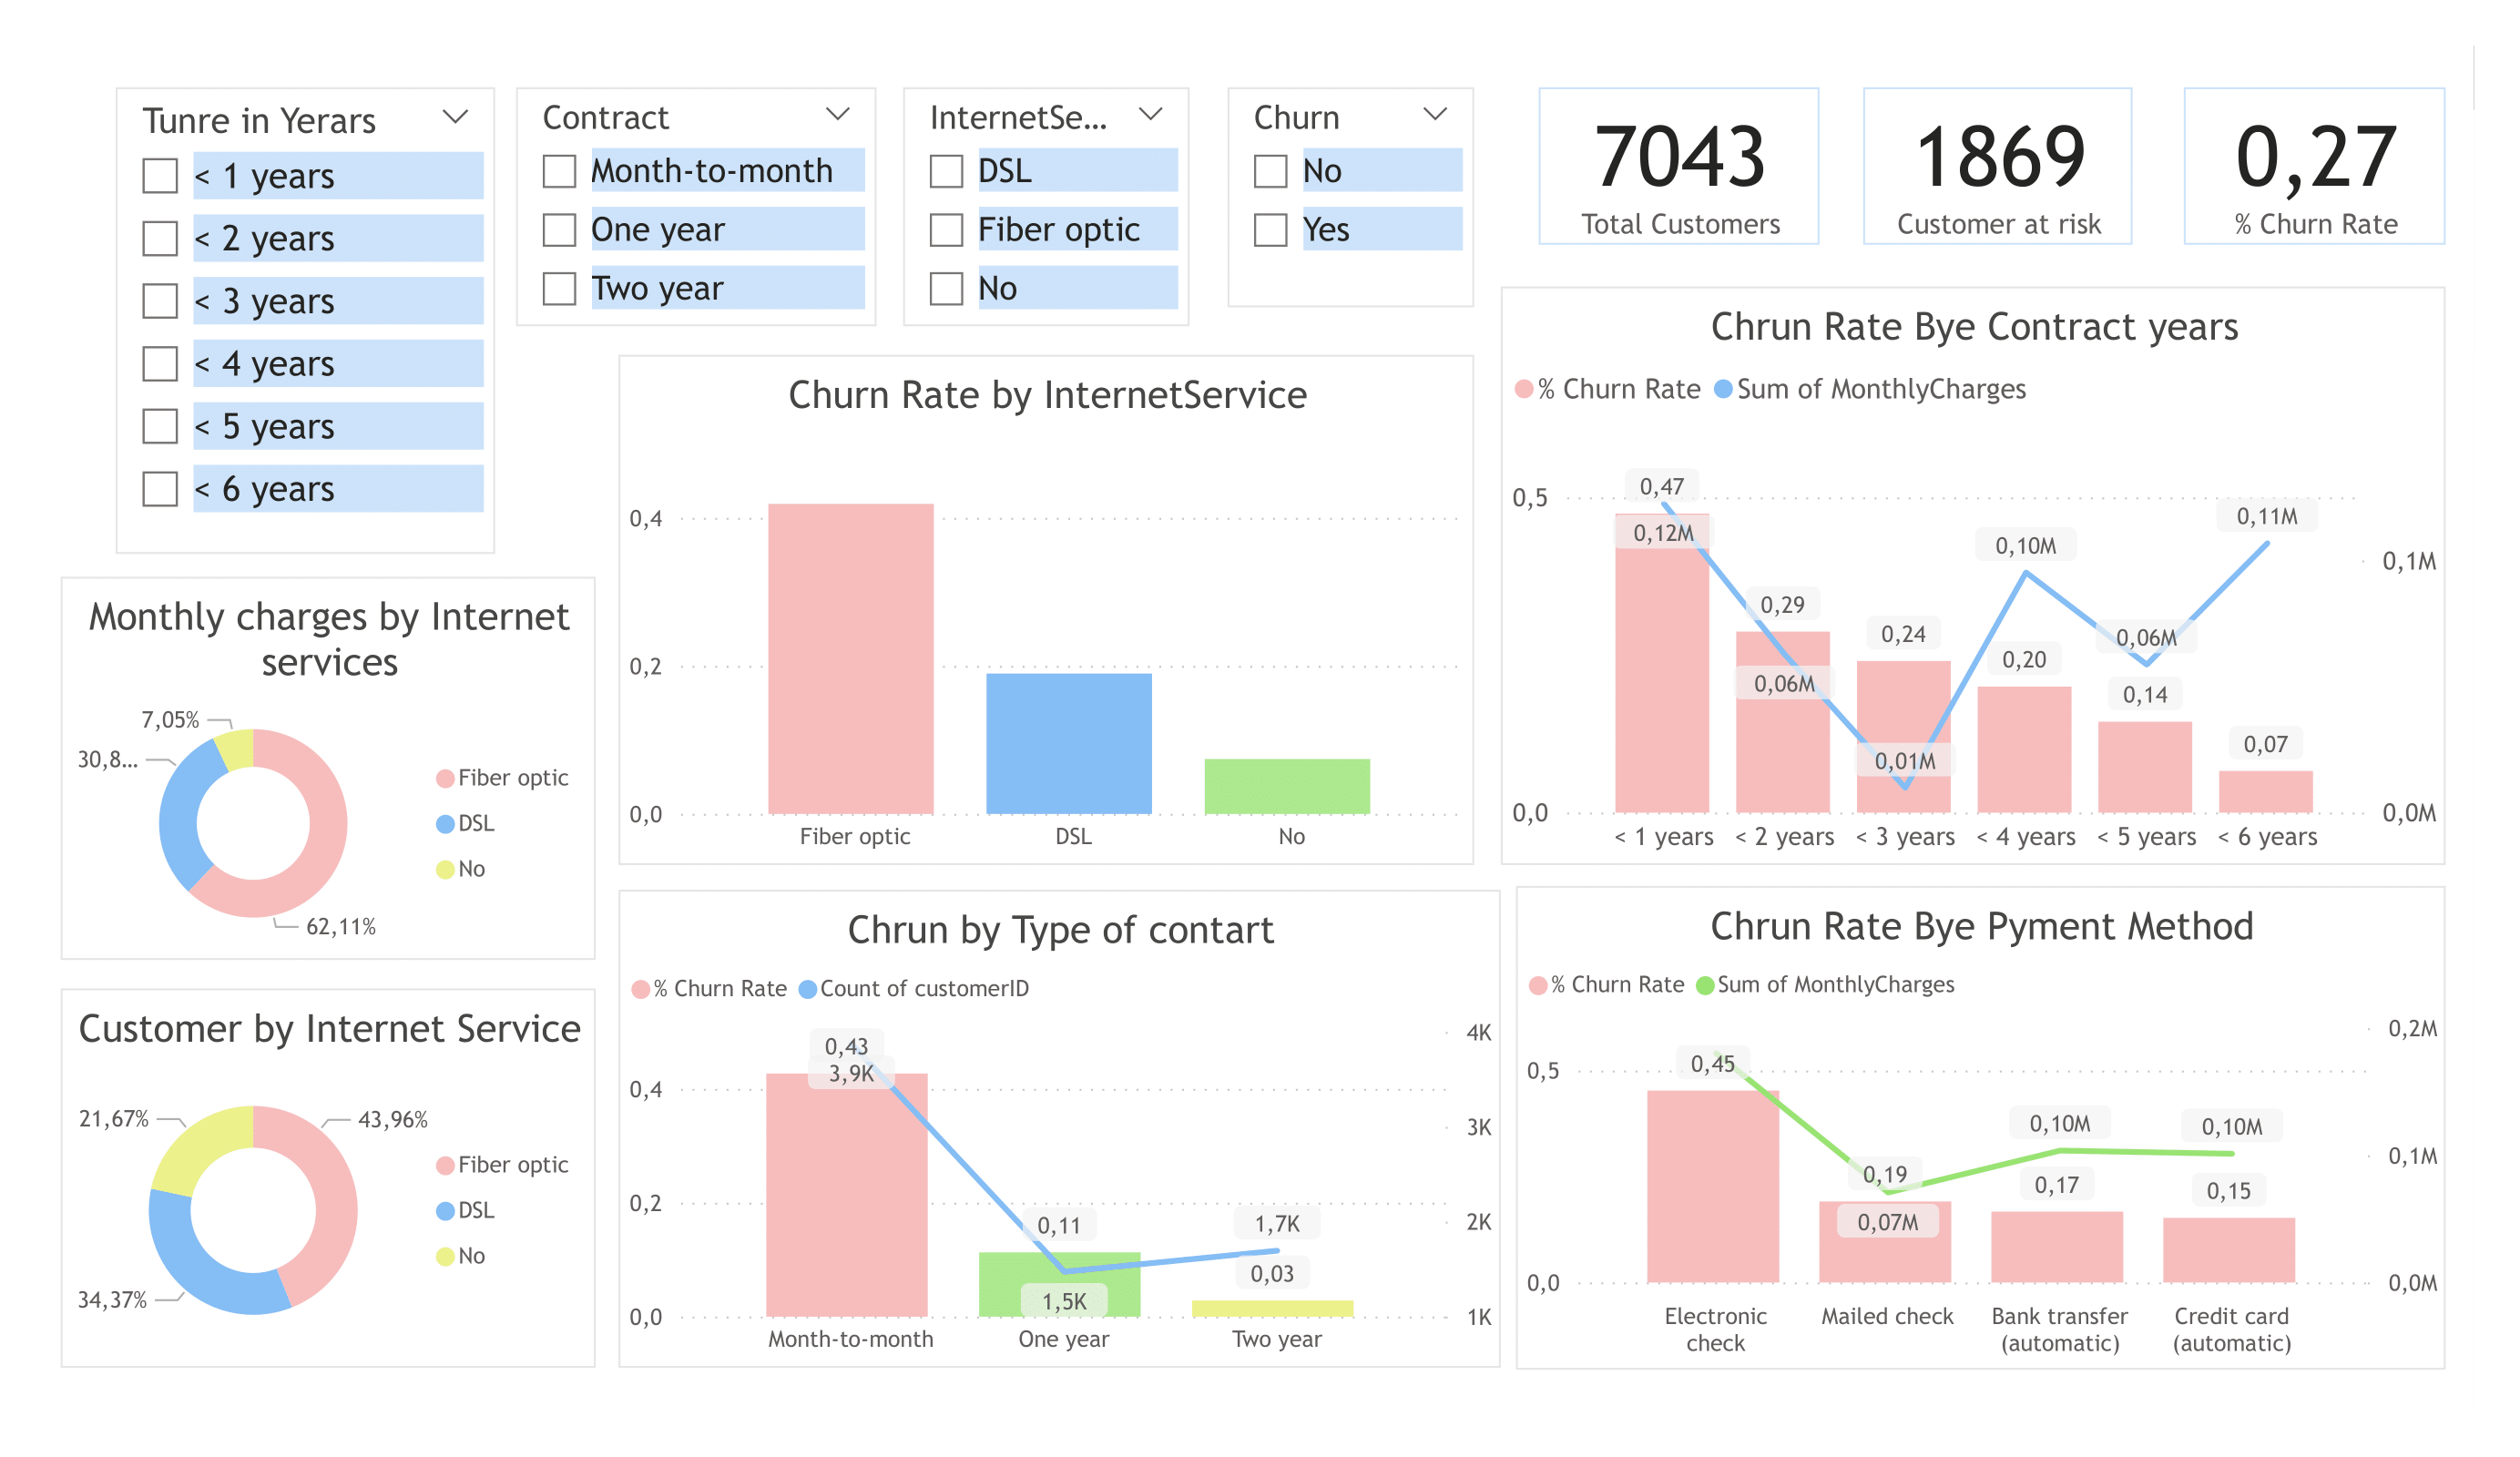

What the dashboard file says about the page in this screenshot:
{"tool":"powerbi","page":{"name":"Page 2","canvas":[1280,720],"ordinal":1},"visuals":[{"type":"card","fields":{"Values":["CountNonNull(Churn.customerID)"]},"box":[786.7,21.7,148.3,83.3],"z":0},{"type":"card","fields":{"Values":["CountNonNull(01 Churn-Dataset.customerID)"]},"box":[958.3,21.7,141.7,83.3],"z":1000},{"type":"card","fields":{"Values":["Churn.% Churn Rate"]},"box":[1126.7,21.7,138.3,83.3],"z":2000},{"type":"columnChart","title":"Churn Rate by InternetService","fields":{"Category":["Churn.InternetService"],"Y":["Churn.% Churn Rate"]},"box":[301.7,163.3,451.7,268.3],"z":3000},{"type":"donutChart","title":"Monthly charges by Internet services","fields":{"Category":["Churn.InternetService"],"Y":["Sum(Churn.MonthlyCharges)"]},"box":[8.3,280,281.7,201.7],"z":4000},{"type":"donutChart","title":"Customer by Internet Service","fields":{"Category":["Churn.InternetService"],"Y":["CountNonNull(Churn.customerID)"]},"box":[8.3,496.7,281.7,200],"z":5000},{"type":"lineStackedColumnComboChart","title":"Chrun Rate Bye Pyment Method","fields":{"Y":["Churn.% Churn Rate"],"Category":["Churn.PaymentMethod"],"Y2":["Sum(Churn.MonthlyCharges)"]},"box":[775,443.3,490,255],"z":6000},{"type":"lineStackedColumnComboChart","title":"Chrun by Type of contart","fields":{"Y":["Churn.% Churn Rate"],"Category":["Churn.Contract"],"Y2":["CountNonNull(Churn.customerID)"]},"box":[301.7,445,465,251.7],"z":7000},{"type":"lineStackedColumnComboChart","title":"Chrun Rate Bye Contract years","fields":{"Y":["Churn.% Churn Rate"],"Y2":["Sum(Churn.MonthlyCharges)"],"Category":["Churn.Tunre in Yerars"]},"box":[766.7,126.7,498.3,305],"z":8000},{"type":"slicer","fields":{"Values":["Churn.InternetService"]},"box":[451.7,21.7,151.7,126.7],"z":9000},{"type":"slicer","fields":{"Values":["Churn.Churn"]},"box":[623.3,21.7,130,116.7],"z":10000},{"type":"slicer","fields":{"Values":["Churn.Tunre in Yerars"]},"box":[36.7,21.7,200,246.7],"z":11000},{"type":"slicer","fields":{"Values":["Churn.Contract"]},"box":[248.3,21.7,190,126.7],"z":12000}]}

Visuals, with their boxes in screenshot pixels (x1, y1, x2, y2):
card - CountNonNull(Churn.customerID): (1538,87,1820,245)
card - CountNonNull(01 Churn-Dataset.customerID): (1864,87,2133,245)
card - Churn.% Churn Rate: (2184,87,2446,245)
"Churn Rate by InternetService" columnChart: (618,355,1475,864)
"Monthly charges by Internet services" donutChart: (61,576,596,960)
"Customer by Internet Service" donutChart: (61,988,596,1367)
"Chrun Rate Bye Pyment Method" lineStackedColumnComboChart: (1516,887,2446,1370)
"Chrun by Type of contart" lineStackedColumnComboChart: (618,890,1500,1367)
"Chrun Rate Bye Contract years" lineStackedColumnComboChart: (1500,286,2446,864)
slicer - Churn.InternetService: (903,87,1190,327)
slicer - Churn.Churn: (1229,87,1475,308)
slicer - Churn.Tunre in Yerars: (115,87,495,555)
slicer - Churn.Contract: (516,87,877,327)
